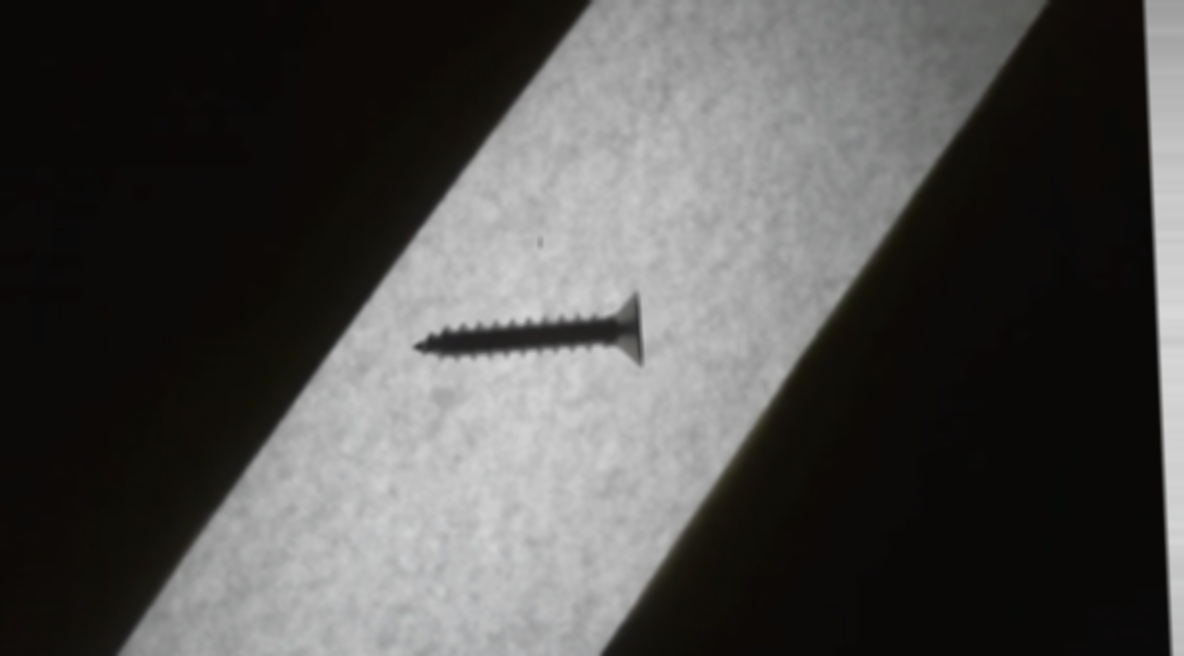S001: (387, 271, 667, 397)
